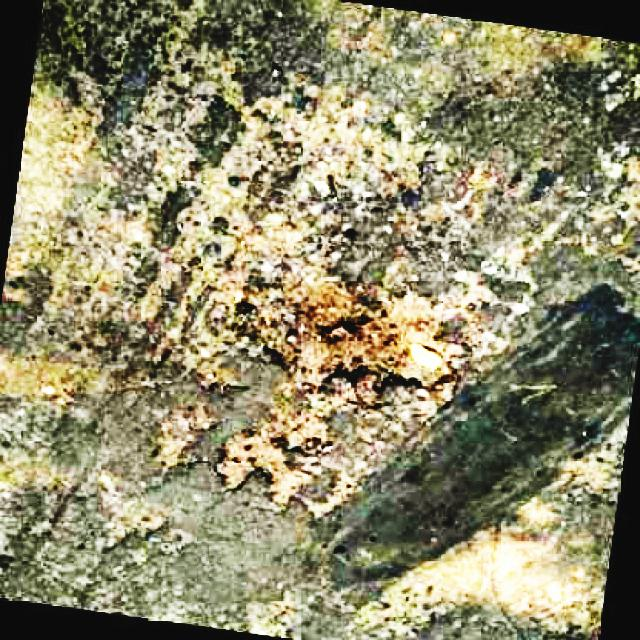pothole: (280, 280, 480, 412), (211, 409, 357, 522)
